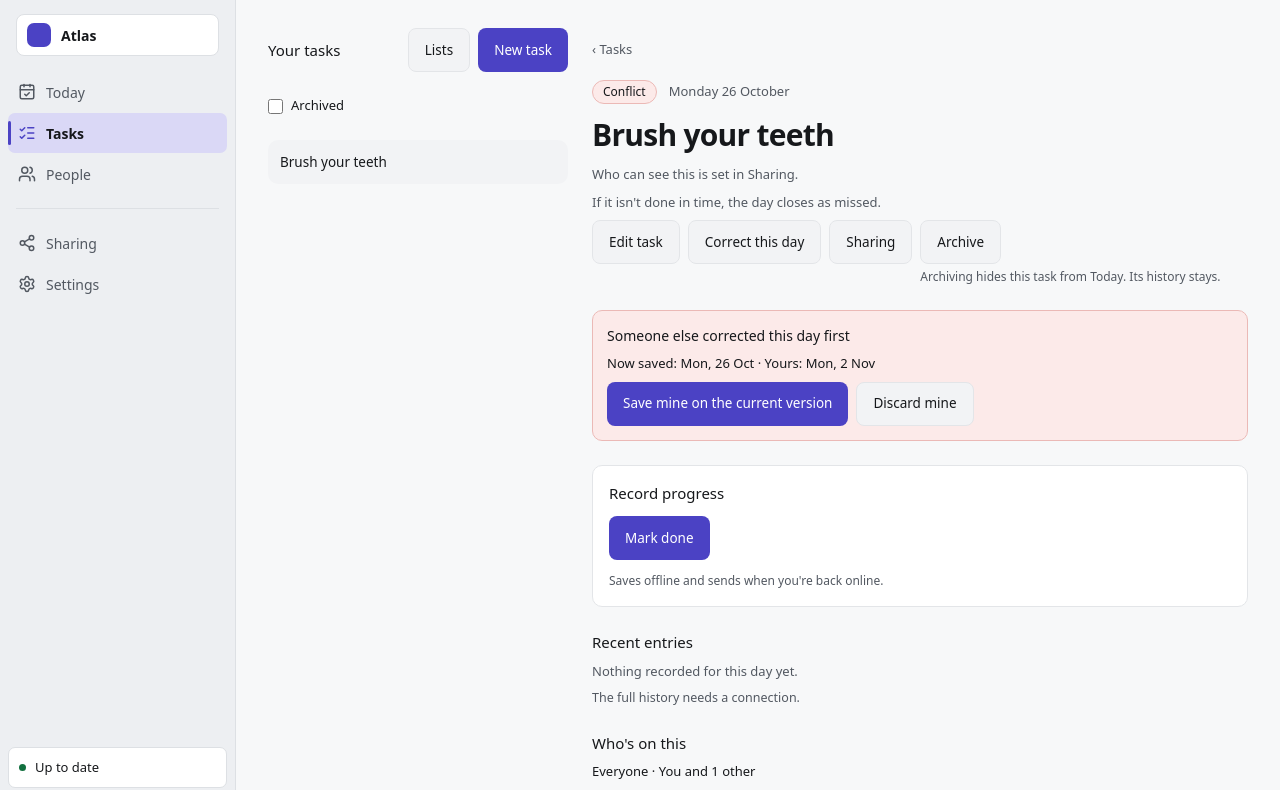
Test: Save mine on the current version (S7, S8) › a denial another tab committed after the choice was shown: the replacement is refused, the conflicted correction and the block stay, and it says why
Click the button "Save mine on the current version" at (728, 404), box 607,382 -> 848,426
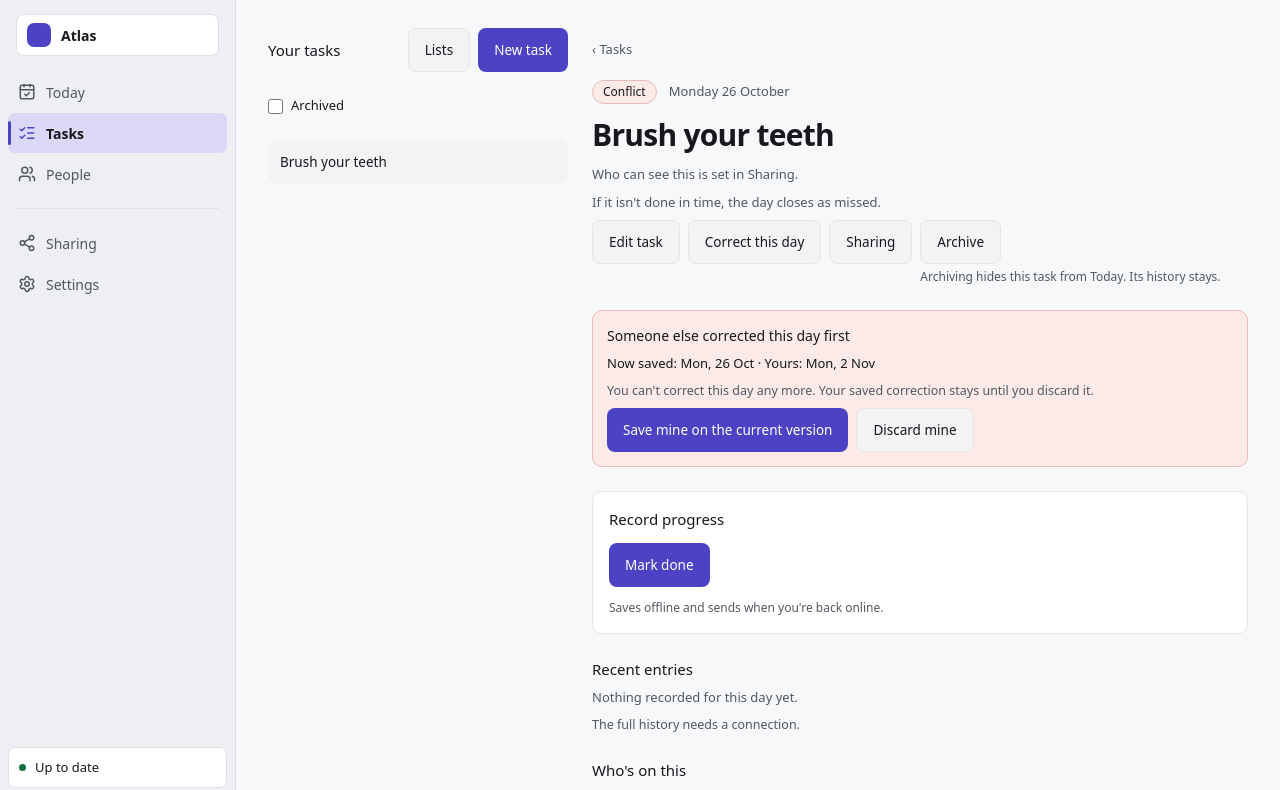
Expected: the element that starts with "Someone else corrected this day first" is shown, 592,310 -> 1248,467
Expected: the text "You can't correct this day any more. Your saved correction stays until you discard it." is shown, 607,382 -> 1094,398
